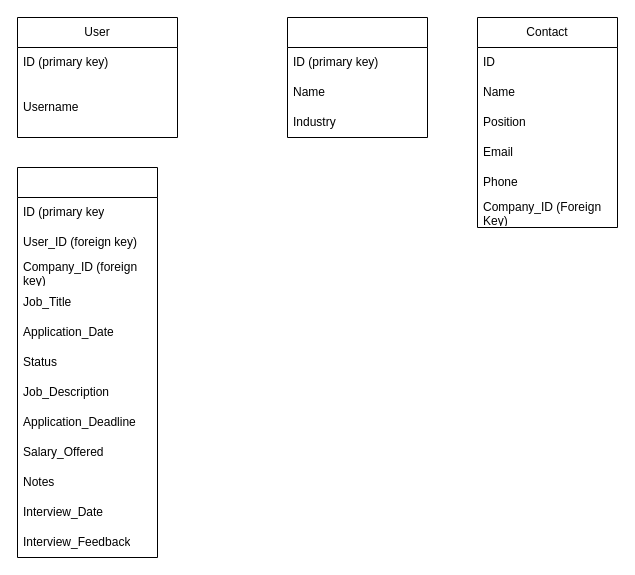
Image size: 635x575. Some labels were removed from this diagram. Here are the shapes that lost their labels. From the top down, the box of each, then its label:
(286, 16, 428, 138): Company
(16, 166, 158, 558): Job_Application
